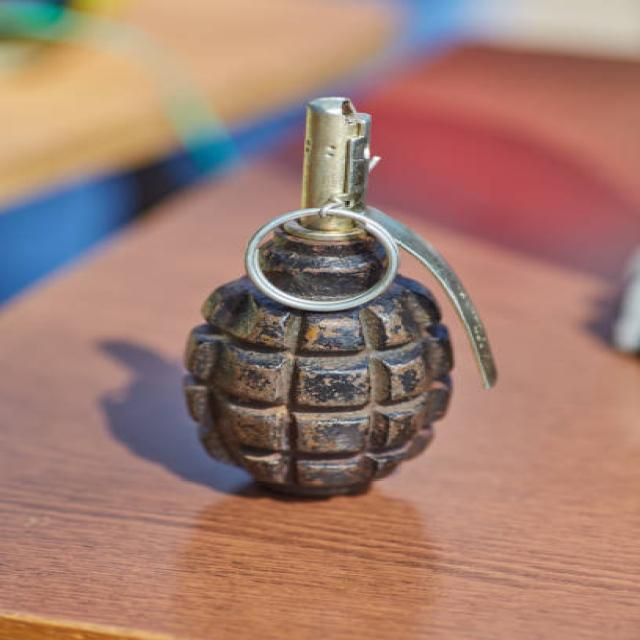grenade: (182, 94, 509, 501)
